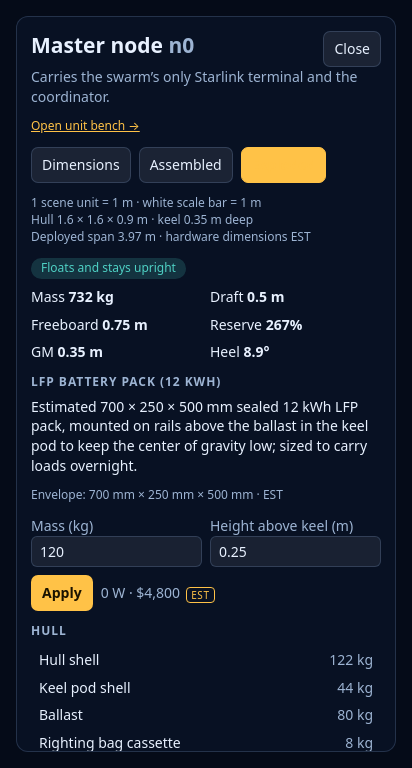
Test: ExplodedPanel › an impossible edit is blocked with no fix button
The width and height of the screenshot is (412, 768).
Replace the text in the field labelled "Mass (kg)" with "99999999" at (116, 551), box top-left (31, 536), bottom-right (202, 567)
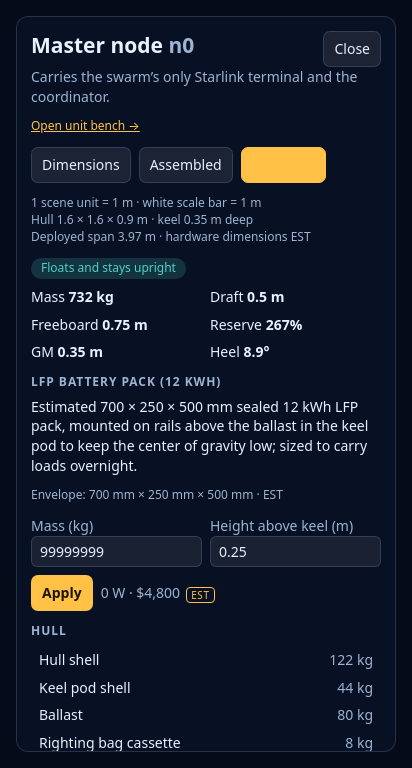
Click the button "Apply" at (62, 593), box top-left (31, 575), bottom-right (93, 611)
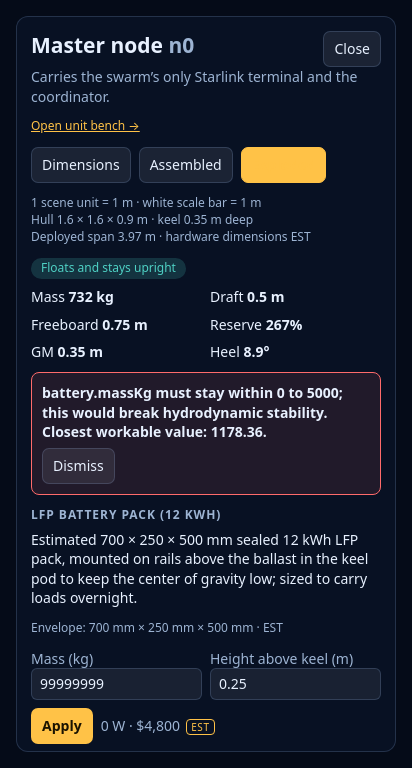
expect the text "hydrodynamic stability" is shown: met, box top-left (42, 383), bottom-right (343, 441)
